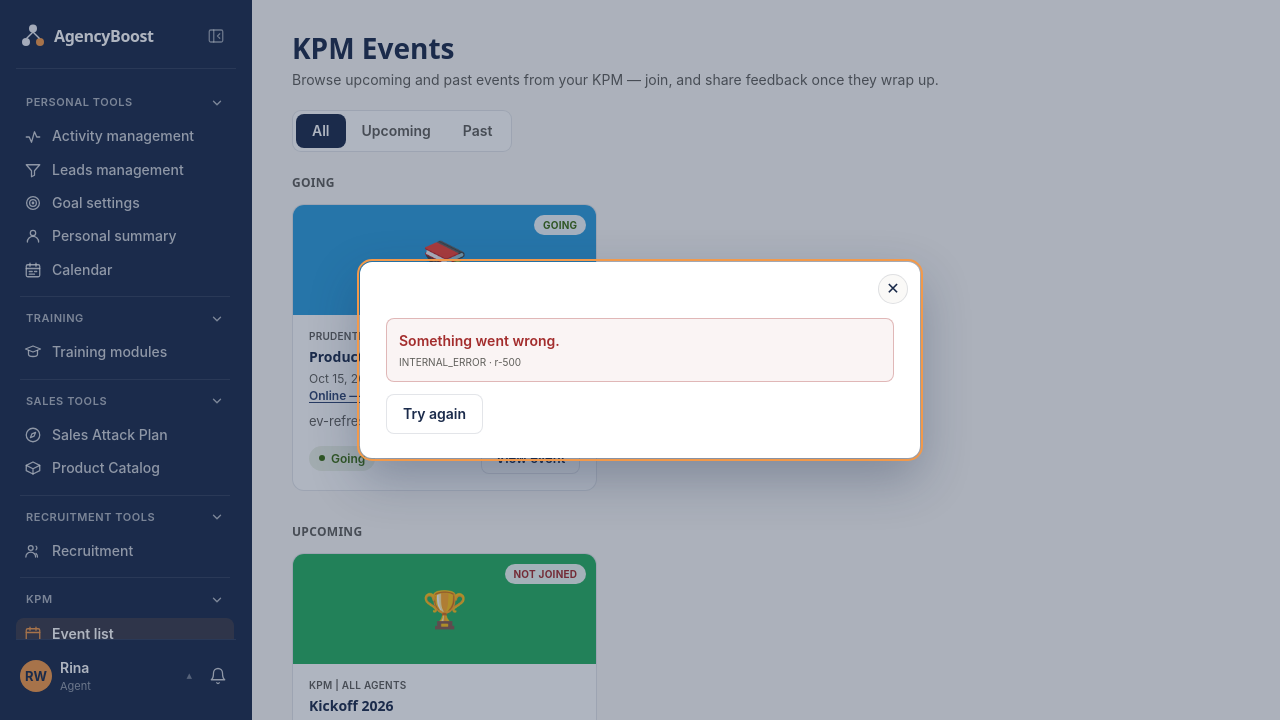
Test: /events, KPM Events (P18.5-T5, T6) › the modal (T5 AC-5) › P18.5-T5 AC-5 an error reading the event, with a retry
The image size is (1280, 720).
Expected: the message shows "Something went wrong.", [399,332,560,349]
What coordinates should you click on to do the following:
click the button "Try again"
I would click on:
 (435, 414)
Its box is [386,394,483,434].
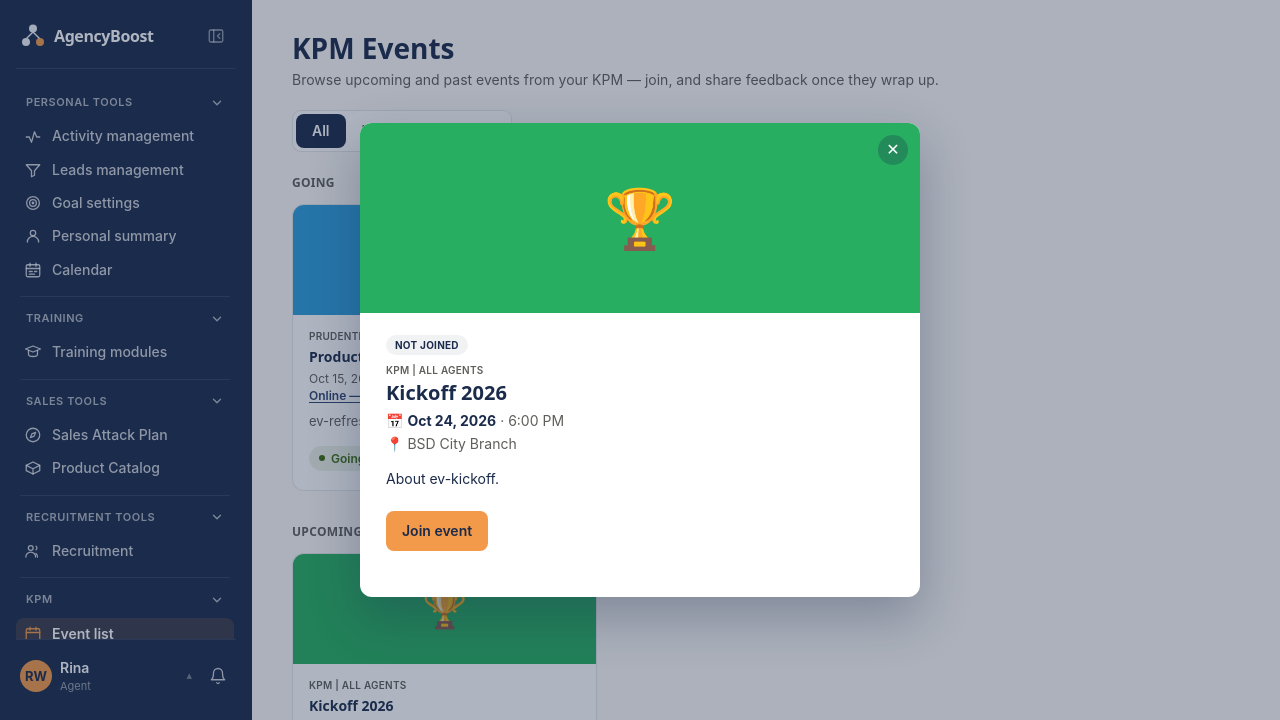
Expected: the dialog "Kickoff 2026" is shown, [360,123,920,597]
